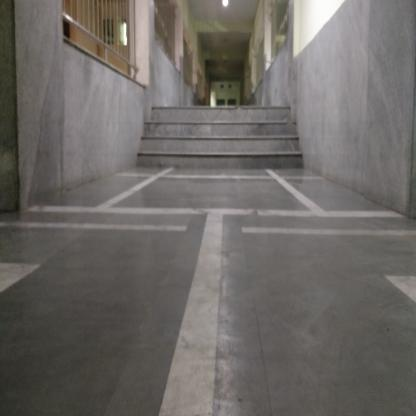stairs: (151, 107, 292, 172)
